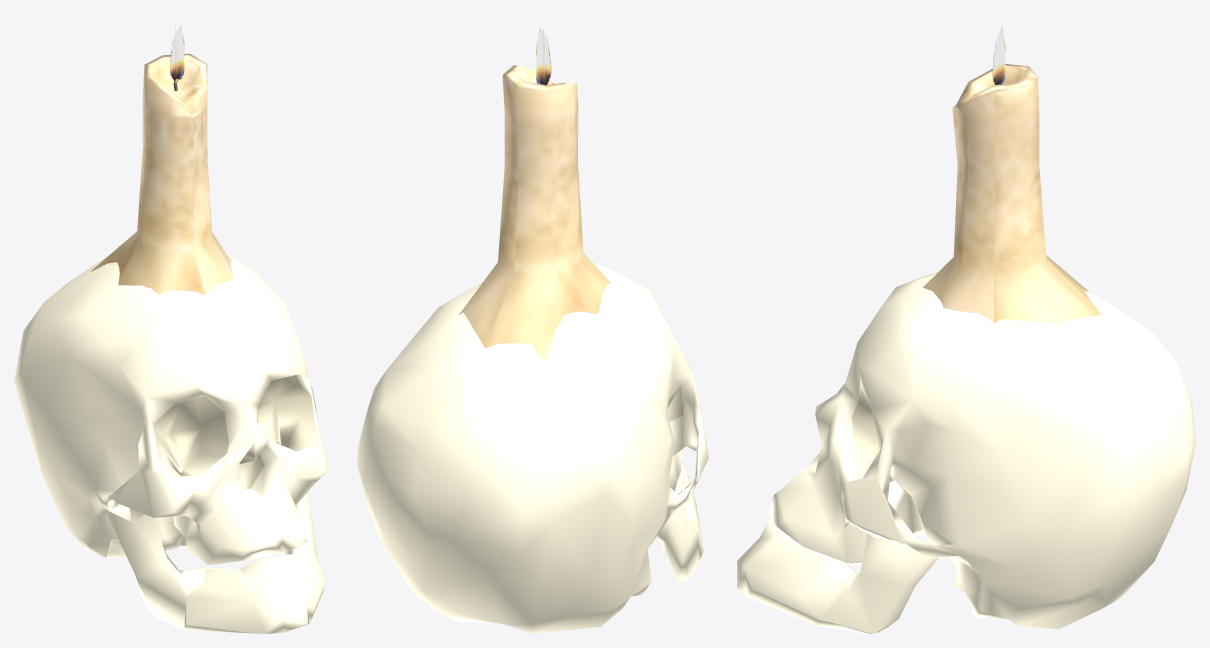
Rendered from CandleSkullShapeA.001.glb.
The picture shows the model from 3 angles, left to right: view 1: azimuth 30°, elevation 25°; view 2: azimuth 150°, elevation 25°; view 3: azimuth 270°, elevation 25°; orthographic projection. The views are drawn at different scales.
Visible parts, largest first — view 1: CandleSkullShapeA.001; view 2: CandleSkullShapeA.001; view 3: CandleSkullShapeA.001.
Part boxes in pixels (box(x1,y1,x2,y2)): CandleSkullShapeA.001: box(14, 25, 328, 633); CandleSkullShapeA.001: box(357, 28, 708, 633); CandleSkullShapeA.001: box(737, 27, 1195, 633).
Size of the model in its own units: 0.2005 by 0.4386 by 0.3132.
2 materials, 2 textured.
